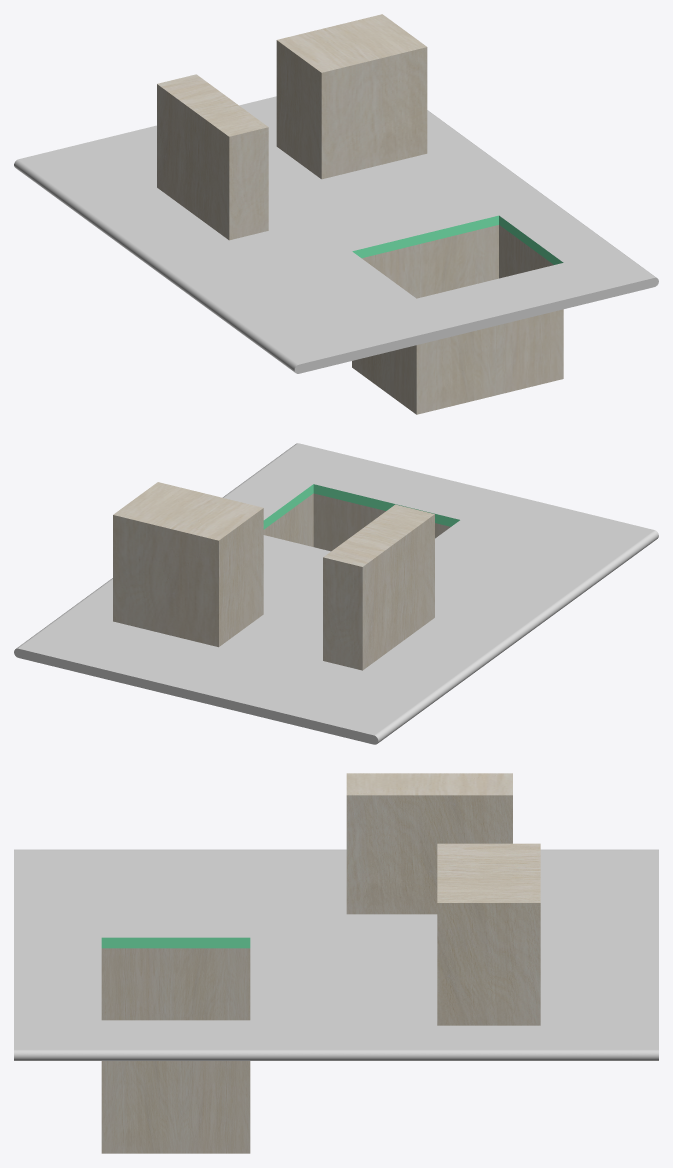
Rendered from In Class Yet Again.fbx.
The picture shows the model from 3 angles, top to bottom: view 1: azimuth 30°, elevation 25°; view 2: azimuth 150°, elevation 25°; view 3: azimuth 270°, elevation 25°; orthographic projection. The views are drawn at different scales.
Parts seen in each view (by area): view 1: Original Table, objects, table edge; view 2: Original Table, objects, table edge; view 3: Original Table, objects, table edge.
Boxes of the visible parts, x1=… form: Original Table: x1=14, y1=96, x2=658, y2=373; objects: x1=157, y1=14, x2=563, y2=414; table edge: x1=352, y1=215, x2=563, y2=264; Original Table: x1=14, y1=443, x2=658, y2=744; objects: x1=113, y1=482, x2=450, y2=670; table edge: x1=263, y1=484, x2=459, y2=529; Original Table: x1=14, y1=849, x2=658, y2=1060; objects: x1=101, y1=773, x2=540, y2=1153; table edge: x1=101, y1=937, x2=250, y2=948.
Size of the model in its own units: 1829 by 2438 by 1068.
3 materials, 1 textured.
